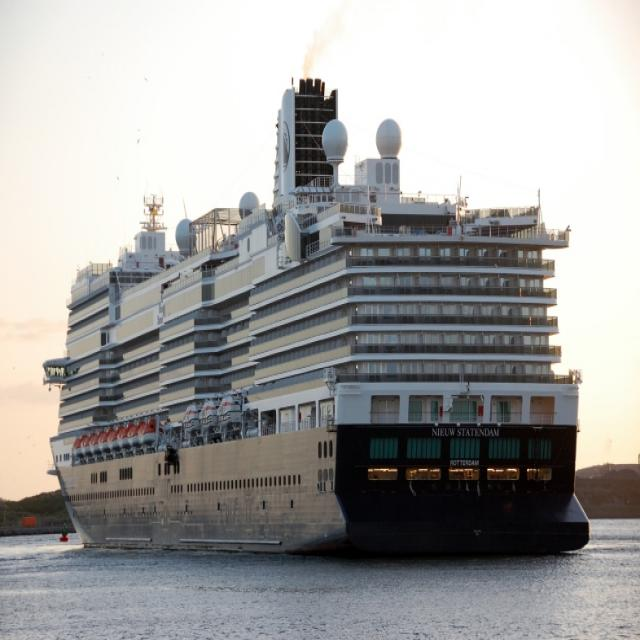cruises: (41, 69, 600, 566)
